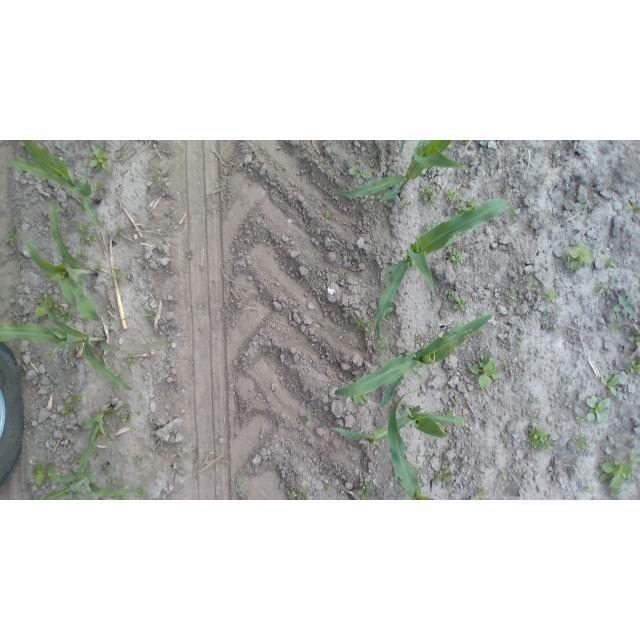Maize: (374, 201, 516, 340), (334, 311, 512, 408), (21, 185, 121, 325), (0, 301, 132, 391), (0, 140, 104, 228), (333, 140, 472, 201), (387, 389, 437, 500), (329, 404, 463, 445), (35, 463, 137, 500), (76, 404, 124, 473), (396, 140, 406, 156), (449, 406, 454, 411)
Weeds: (599, 460, 637, 497), (469, 355, 499, 390), (561, 242, 595, 272), (586, 395, 612, 423), (526, 427, 554, 452), (90, 148, 115, 173), (32, 462, 57, 487), (601, 374, 623, 396), (434, 464, 457, 484), (34, 296, 54, 318), (613, 296, 634, 315), (348, 165, 372, 180), (448, 248, 463, 268), (356, 483, 373, 500), (445, 188, 462, 205), (574, 434, 591, 451), (419, 187, 437, 202), (455, 202, 474, 216), (54, 306, 73, 320), (290, 487, 310, 500), (593, 281, 609, 296), (6, 227, 18, 247), (384, 296, 394, 318), (628, 357, 640, 375), (628, 329, 640, 347), (353, 392, 368, 406), (454, 296, 467, 312), (66, 394, 83, 406), (543, 291, 558, 304), (94, 181, 107, 196), (80, 232, 96, 244), (76, 222, 90, 235), (539, 310, 552, 323), (233, 474, 245, 487), (297, 415, 309, 428), (61, 405, 73, 418), (135, 487, 147, 500), (422, 223, 439, 232), (121, 411, 131, 426), (376, 340, 388, 352), (356, 317, 367, 329), (445, 289, 457, 300), (526, 280, 538, 291), (476, 489, 487, 500), (605, 259, 616, 270), (145, 310, 156, 321), (76, 248, 86, 260), (20, 141, 36, 148), (517, 331, 525, 345), (629, 453, 640, 463), (466, 200, 478, 209), (576, 414, 588, 423), (378, 194, 388, 204), (506, 290, 516, 300), (112, 268, 122, 278), (73, 453, 83, 463), (114, 227, 125, 236), (127, 355, 136, 366), (402, 199, 411, 209), (631, 202, 640, 212), (152, 173, 161, 183), (135, 455, 144, 465), (538, 174, 547, 183), (115, 372, 124, 381), (324, 210, 332, 219), (545, 210, 554, 218), (501, 363, 509, 372), (94, 261, 102, 270), (533, 397, 542, 405), (501, 469, 508, 479), (68, 364, 75, 374), (446, 140, 454, 148), (611, 325, 619, 333), (367, 320, 376, 327), (79, 203, 86, 211), (92, 449, 99, 457), (113, 477, 120, 485), (586, 487, 594, 494), (416, 466, 422, 475), (460, 140, 470, 145), (503, 189, 510, 196), (61, 259, 68, 266), (69, 351, 76, 358), (579, 204, 585, 212), (111, 385, 117, 392), (574, 190, 579, 198), (542, 322, 547, 330), (528, 226, 534, 232), (135, 411, 141, 417), (603, 439, 609, 445), (326, 483, 331, 490), (117, 151, 122, 158), (266, 352, 272, 357), (101, 141, 106, 147), (456, 398, 461, 403), (505, 441, 510, 446), (333, 232, 337, 237), (414, 335, 418, 339)
